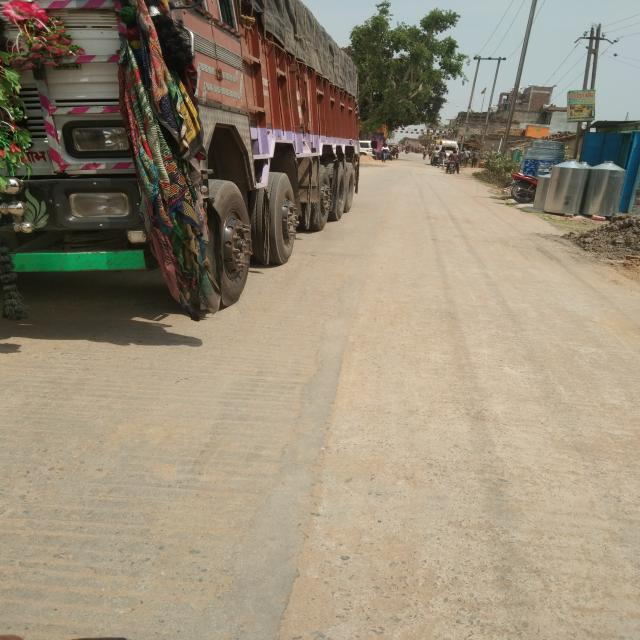Bike: (507, 174, 536, 212), (445, 156, 458, 174), (404, 147, 413, 157)
Car: (360, 141, 377, 161)
Traveller: (426, 139, 460, 166)
Truck: (0, 0, 363, 312)
